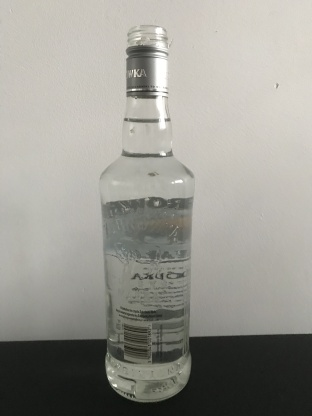nakretka: (124, 22, 170, 99)
